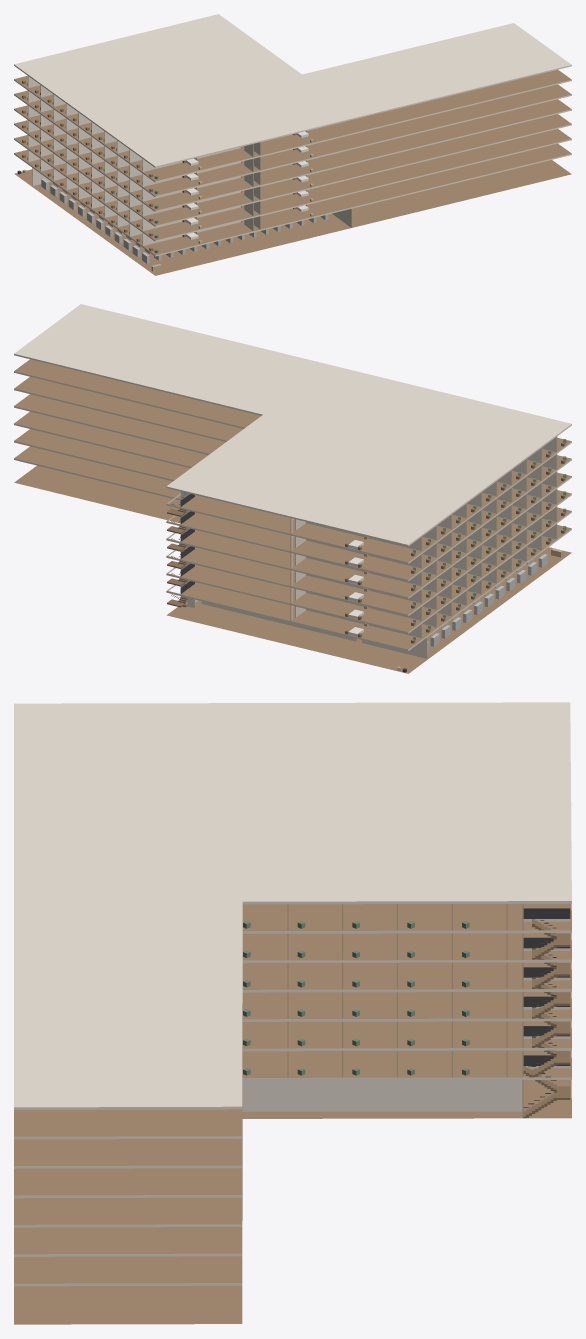
Rendered from interior.glb.
3 views of the same model, one above another, from view 1: azimuth 30°, elevation 25°; view 2: azimuth 150°, elevation 25°; view 3: azimuth 270°, elevation 25° (orthographic). The views are drawn at different scales.
Visible parts, largest first — view 1: slabs, partitions, coarse-s0, coarse-s3, coarse-s2, coarse-s1, coarse-s4, coarse-s6, coarse-s5; view 2: slabs, partitions, coarse-s0, stair, coarse-s2, coarse-s4, coarse-s1, coarse-s3, coarse-s5, coarse-s6; view 3: slabs, partitions, stair.
Part boxes in pixels (bbox=[...]): slabs: bbox=[14, 14, 571, 275]; partitions: bbox=[28, 76, 352, 245]; coarse-s0: bbox=[17, 169, 328, 271]; coarse-s3: bbox=[22, 124, 313, 223]; coarse-s2: bbox=[22, 139, 313, 238]; coarse-s1: bbox=[22, 154, 313, 253]; coarse-s4: bbox=[22, 110, 313, 208]; coarse-s6: bbox=[22, 80, 313, 179]; coarse-s5: bbox=[22, 95, 313, 193]; slabs: bbox=[14, 304, 571, 673]; partitions: bbox=[180, 436, 557, 658]; coarse-s0: bbox=[397, 548, 562, 672]; stair: bbox=[167, 492, 194, 607]; coarse-s2: bbox=[345, 508, 566, 625]; coarse-s4: bbox=[345, 474, 566, 591]; coarse-s1: bbox=[345, 526, 566, 643]; coarse-s3: bbox=[345, 491, 566, 608]; coarse-s5: bbox=[345, 456, 566, 573]; coarse-s6: bbox=[345, 439, 566, 556]; slabs: bbox=[14, 702, 571, 1324]; partitions: bbox=[242, 903, 523, 1118]; stair: bbox=[523, 908, 570, 1118].
Bounding box in the file's own units: 84.28 × 21.1 × 49.07.
